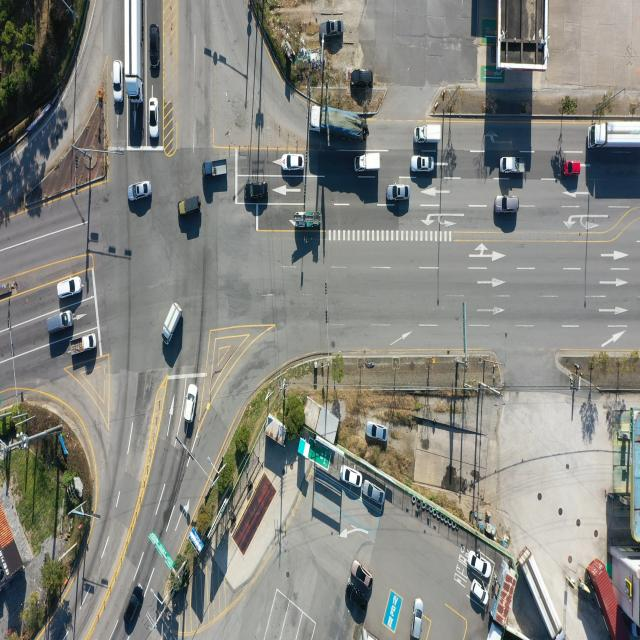car: (125, 584, 146, 628), (345, 582, 366, 620), (44, 310, 72, 334), (350, 560, 372, 590), (470, 552, 492, 579), (58, 276, 82, 300), (363, 482, 384, 507), (184, 384, 197, 424), (150, 26, 160, 78), (128, 180, 152, 201), (412, 599, 424, 640), (472, 581, 490, 608), (178, 196, 200, 217), (148, 96, 159, 138), (342, 465, 363, 487), (495, 197, 519, 216), (365, 421, 387, 441), (351, 68, 374, 87), (244, 182, 268, 200), (112, 61, 122, 102), (412, 157, 435, 174), (386, 183, 408, 200), (282, 153, 303, 170), (323, 20, 343, 37), (562, 161, 581, 178)
medium_truck: (522, 548, 564, 638), (126, 1, 144, 106), (310, 104, 366, 134), (591, 122, 640, 150)
small_truck: (164, 302, 182, 344), (70, 333, 98, 357), (355, 153, 382, 175), (499, 157, 527, 176), (416, 125, 442, 145), (204, 160, 228, 179), (295, 210, 319, 227)
